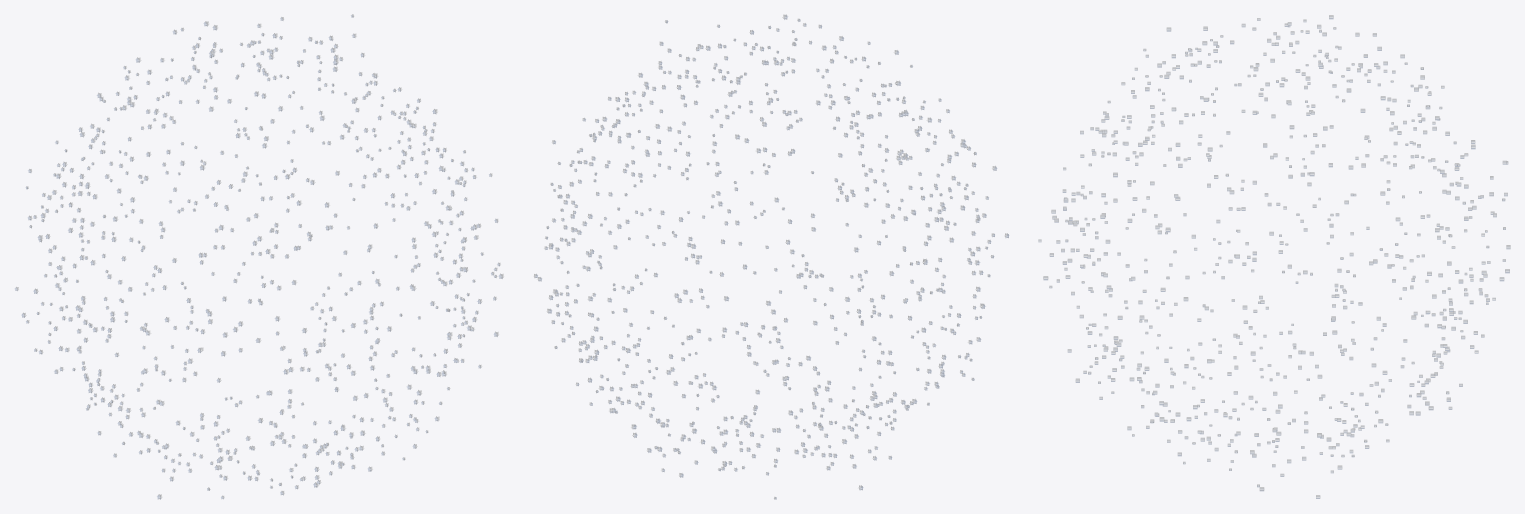
The model's file is fw_chrys_blue_teal_c.glb.
The picture shows the model from 3 angles, left to right: view 1: azimuth 30°, elevation 25°; view 2: azimuth 150°, elevation 25°; view 3: azimuth 270°, elevation 25°; orthographic projection. The views are drawn at different scales.
Visible parts, largest first — view 1: spire; view 2: spire; view 3: spire.
Part boxes in pixels (box(x1,y1,x2,y2)): spire: box(14, 14, 504, 499); spire: box(533, 14, 1009, 499); spire: box(1038, 15, 1510, 498).
Size of the model in its own units: 26.72 by 27.95 by 27.16.
Materials: 1 (1 with a texture image).
